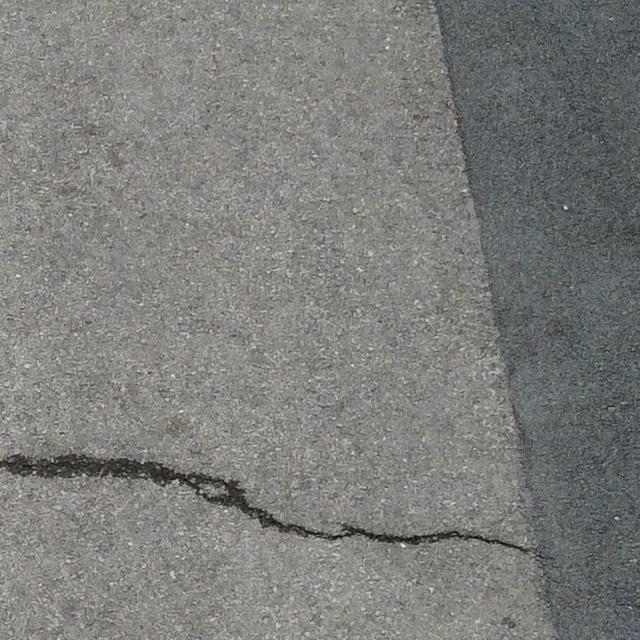TransverseCrack: (1, 452, 539, 557)
